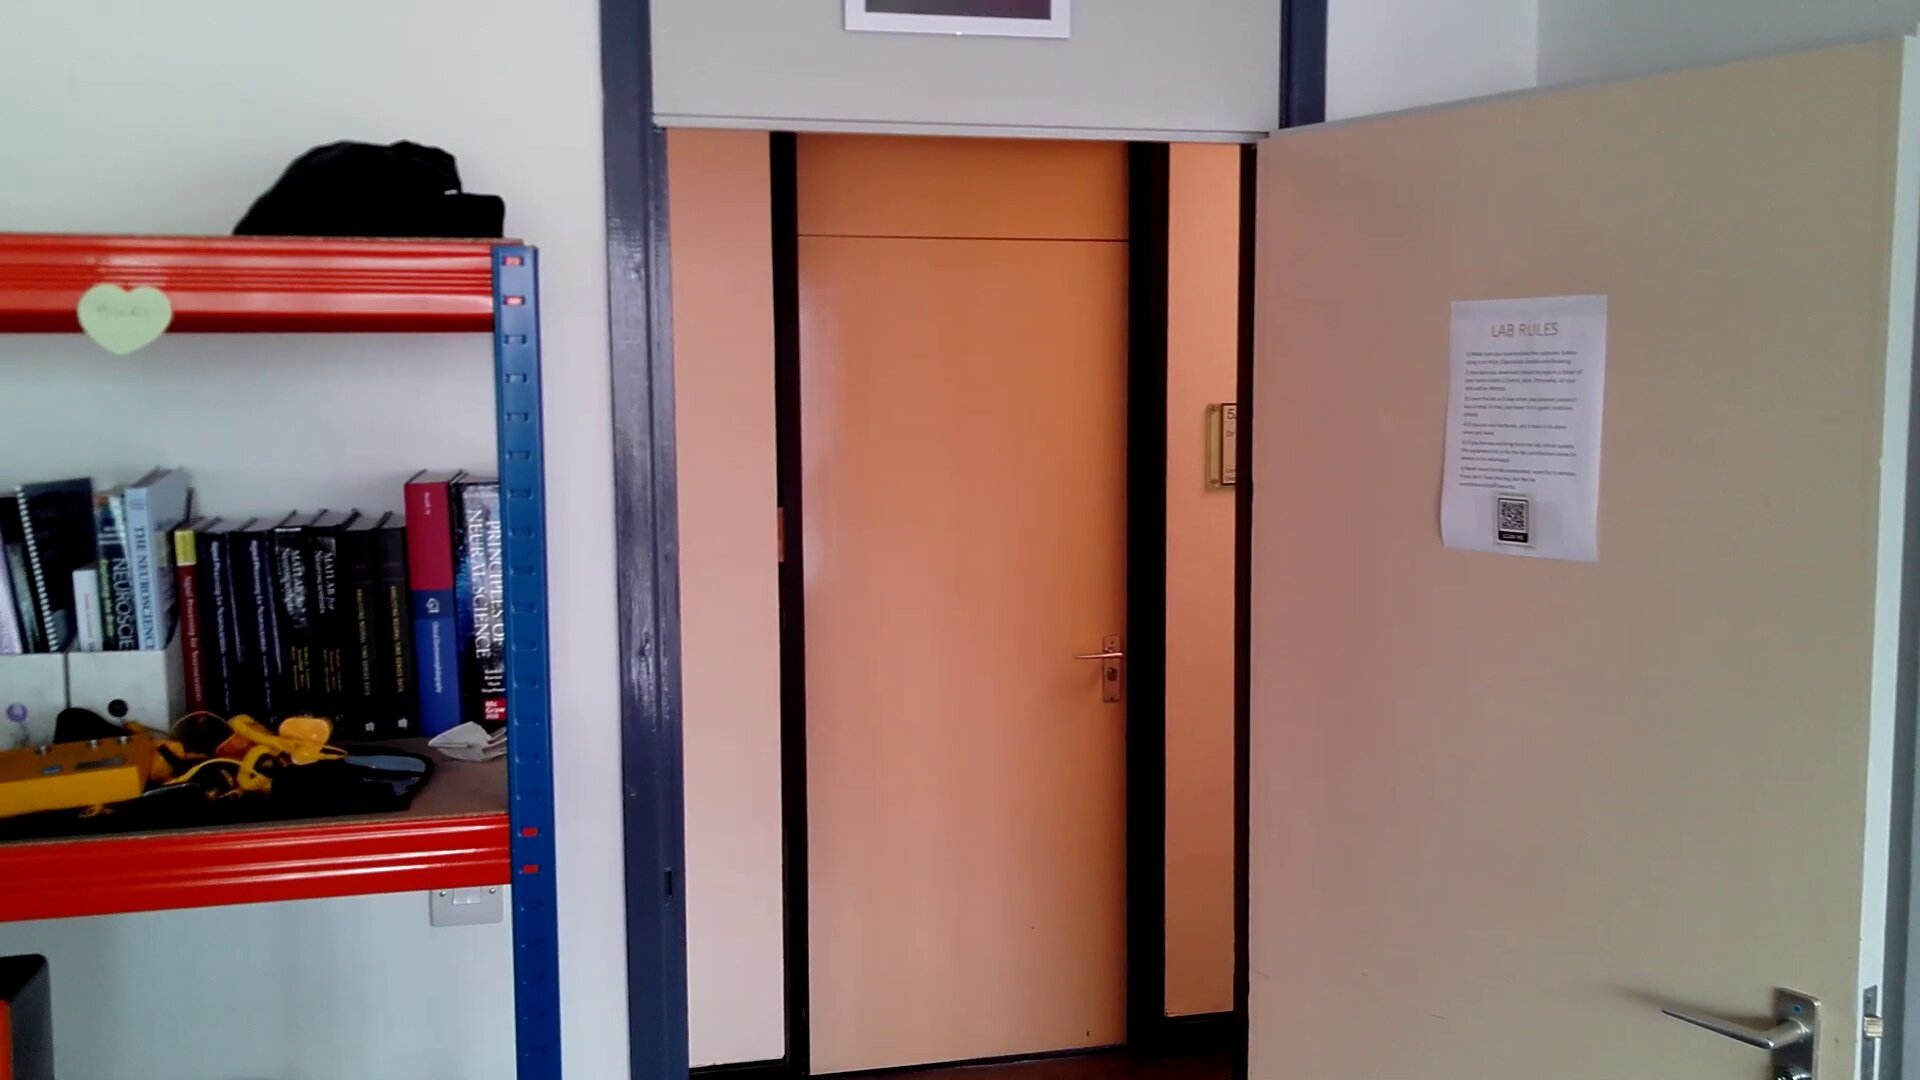Door: (1229, 133, 1920, 1080), (767, 218, 1189, 1080)
